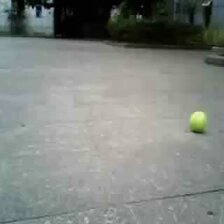tennis: (189, 111, 206, 132)
